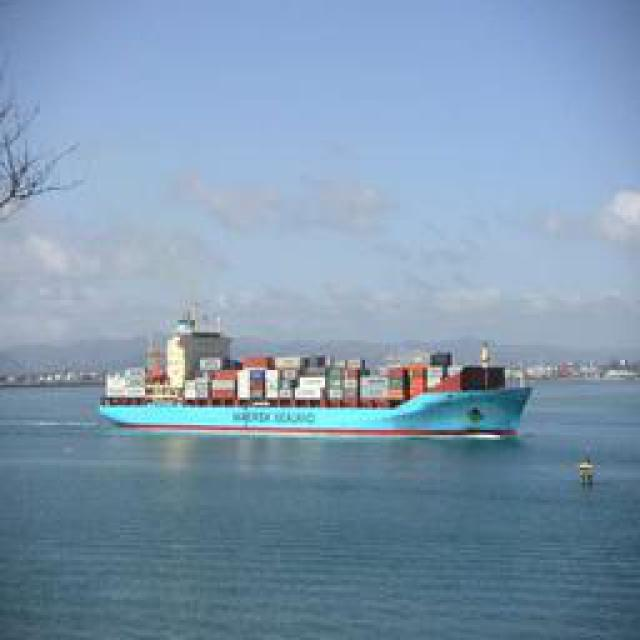Ship: (102, 321, 530, 436)
